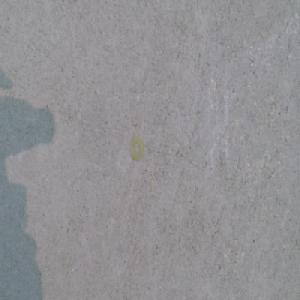Washer: (129, 135, 144, 160)
